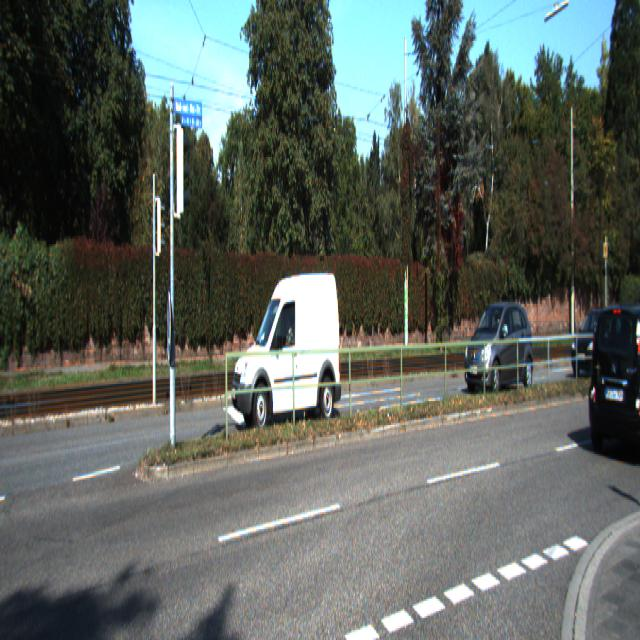Car: (232, 265, 344, 442), (588, 297, 639, 466), (464, 299, 534, 399), (571, 306, 629, 380)
